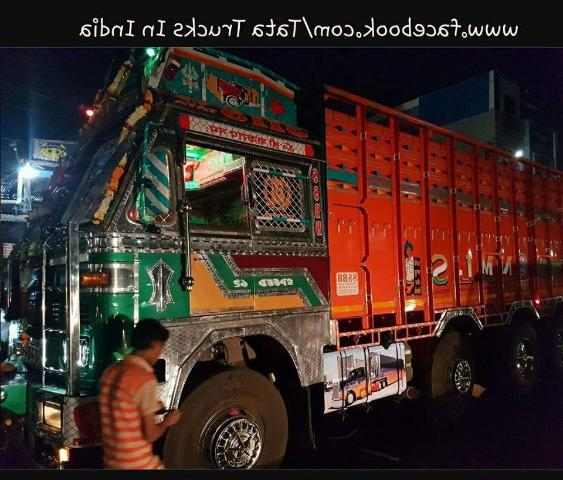truck: (0, 21, 563, 461)
